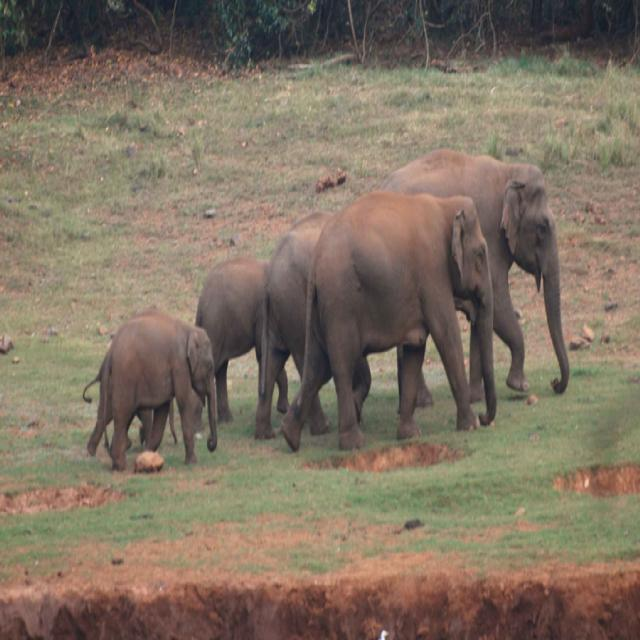Elephant: (313, 185, 497, 465), (437, 141, 572, 427), (82, 300, 222, 480), (196, 253, 266, 441), (268, 224, 308, 415)
